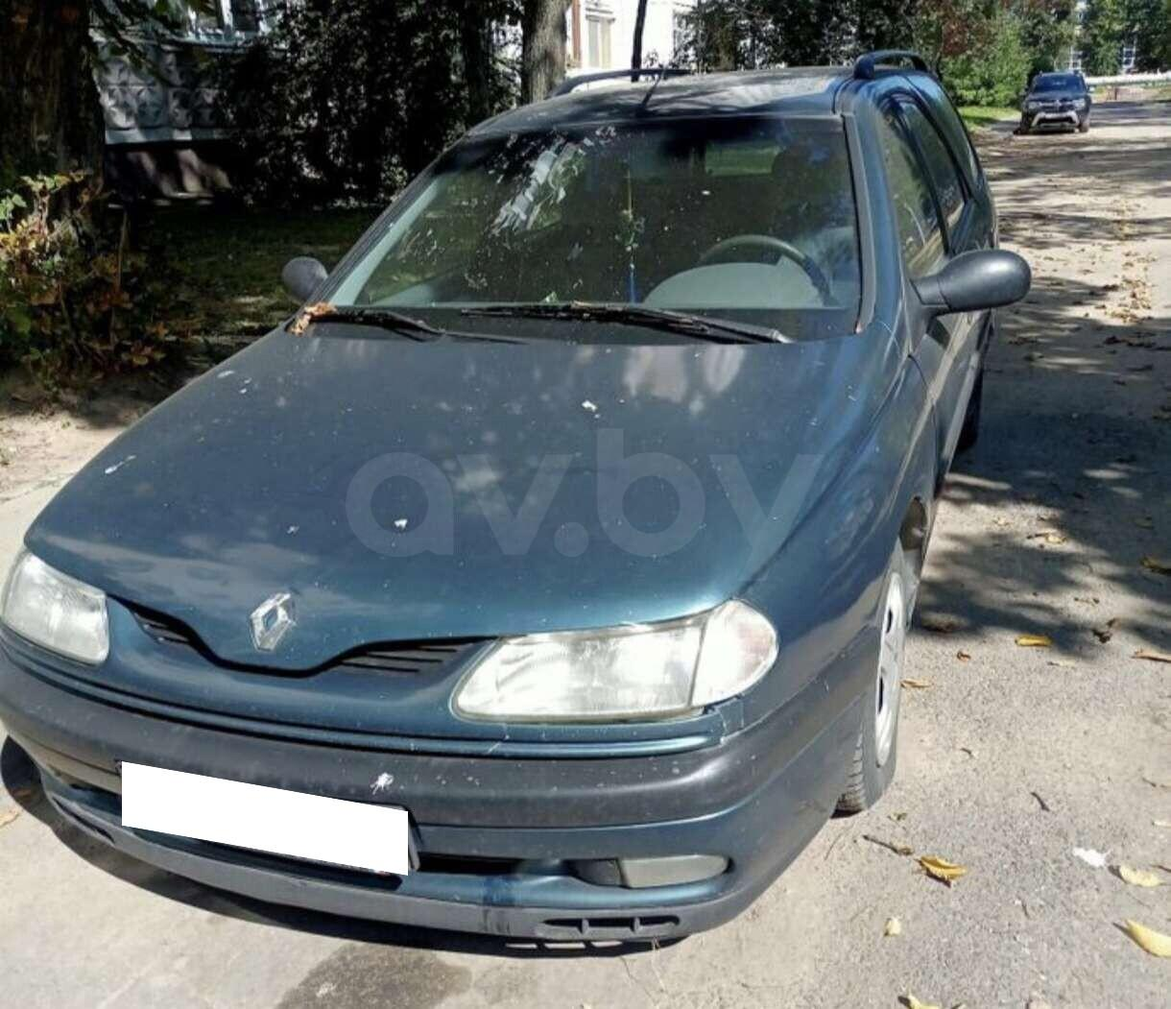Lahuna_1993-1999: (0, 45, 1026, 961)
